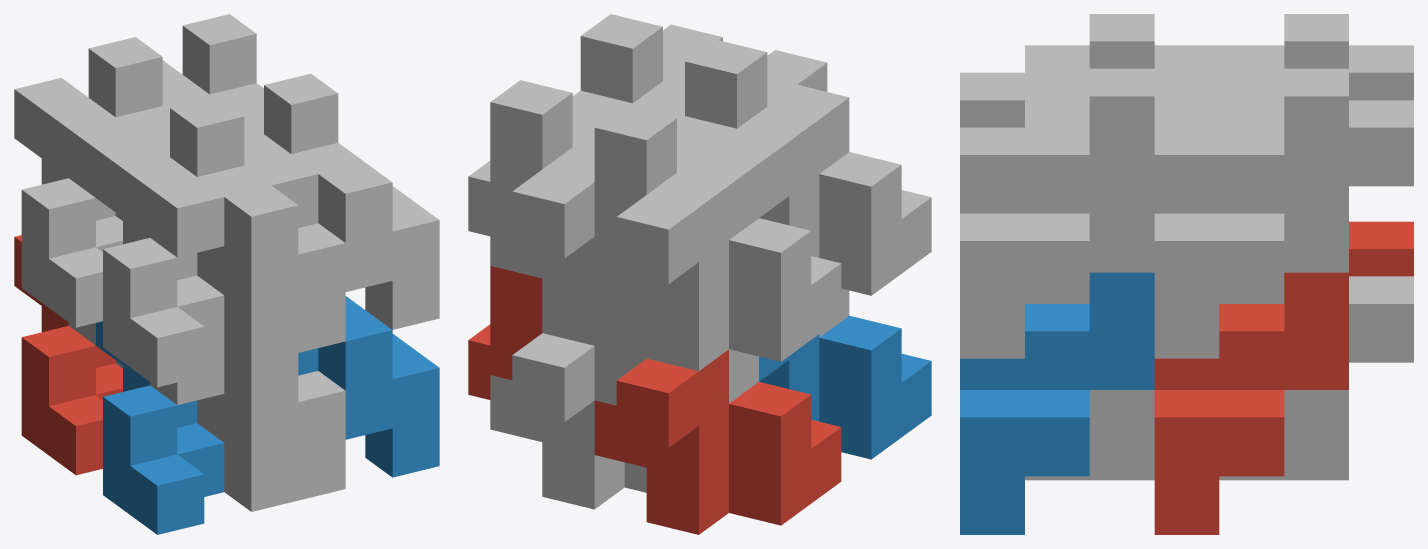
The model's file is tiling.obj.
3 renders of one model, left to right at view 1: azimuth 30°, elevation 25°; view 2: azimuth 150°, elevation 25°; view 3: azimuth 270°, elevation 25°, orthographic. The views are drawn at different scales.
Visible parts, largest first — view 1: copy_2_domain_4, copy_2_domain_8, copy_1_domain_4, copy_1_domain_3, copy_2_domain_2, copy_1_domain_2, copy_2_domain_6, copy_1_domain_1, copy_2_domain_3, copy_2_domain_7, copy_1_domain_8, copy_1_domain_6 (+1 smaller); view 2: copy_1_domain_3, copy_1_domain_1, copy_1_domain_4, copy_1_domain_2, copy_1_domain_5, copy_1_domain_7, copy_2_domain_3, copy_2_domain_4, copy_2_domain_7, copy_2_domain_8, copy_2_domain_5, copy_2_domain_1 (+1 smaller); view 3: copy_2_domain_7, copy_2_domain_8, copy_2_domain_5, copy_2_domain_6, copy_1_domain_5, copy_2_domain_4, copy_1_domain_7, copy_2_domain_3, copy_1_domain_6, copy_1_domain_8, copy_1_domain_1, copy_1_domain_3 (+1 smaller).
Boxes of the visible parts, bbox=[...] form: copy_2_domain_4: bbox=[150, 96, 345, 352]; copy_2_domain_8: bbox=[244, 73, 439, 329]; copy_1_domain_4: bbox=[96, 137, 224, 387]; copy_1_domain_3: bbox=[14, 77, 122, 327]; copy_2_domain_2: bbox=[150, 344, 345, 500]; copy_1_domain_2: bbox=[96, 321, 224, 534]; copy_2_domain_6: bbox=[298, 296, 439, 477]; copy_1_domain_1: bbox=[14, 235, 122, 475]; copy_2_domain_3: bbox=[68, 37, 169, 197]; copy_2_domain_7: bbox=[163, 14, 263, 133]; copy_1_domain_8: bbox=[197, 120, 298, 364]; copy_1_domain_6: bbox=[197, 394, 298, 511]; copy_1_domain_3: bbox=[594, 173, 841, 371]; copy_1_domain_1: bbox=[594, 349, 841, 534]; copy_1_domain_4: bbox=[707, 106, 931, 295]; copy_1_domain_2: bbox=[759, 315, 931, 459]; copy_1_domain_5: bbox=[490, 333, 646, 509]; copy_1_domain_7: bbox=[490, 147, 594, 345]; copy_2_domain_3: bbox=[594, 105, 758, 241]; copy_2_domain_4: bbox=[685, 39, 849, 173]; copy_2_domain_7: bbox=[468, 80, 632, 236]; copy_2_domain_8: bbox=[580, 14, 722, 103]; copy_2_domain_5: bbox=[468, 266, 542, 399]; copy_2_domain_1: bbox=[594, 291, 758, 405]; copy_2_domain_7: bbox=[1154, 68, 1348, 358]; copy_2_domain_8: bbox=[960, 68, 1154, 358]; copy_2_domain_5: bbox=[1154, 272, 1348, 534]; copy_2_domain_6: bbox=[960, 272, 1154, 534]; copy_1_domain_5: bbox=[1219, 276, 1413, 480]; copy_2_domain_4: bbox=[960, 14, 1154, 127]; copy_1_domain_7: bbox=[1219, 100, 1413, 303]; copy_2_domain_3: bbox=[1154, 14, 1348, 100]; copy_1_domain_6: bbox=[1025, 390, 1154, 480]; copy_1_domain_8: bbox=[1025, 100, 1219, 303]; copy_1_domain_1: bbox=[1349, 221, 1413, 276]; copy_1_domain_3: bbox=[1349, 45, 1413, 100].
Bounding box in the file's own units: 6 × 7 × 7.
